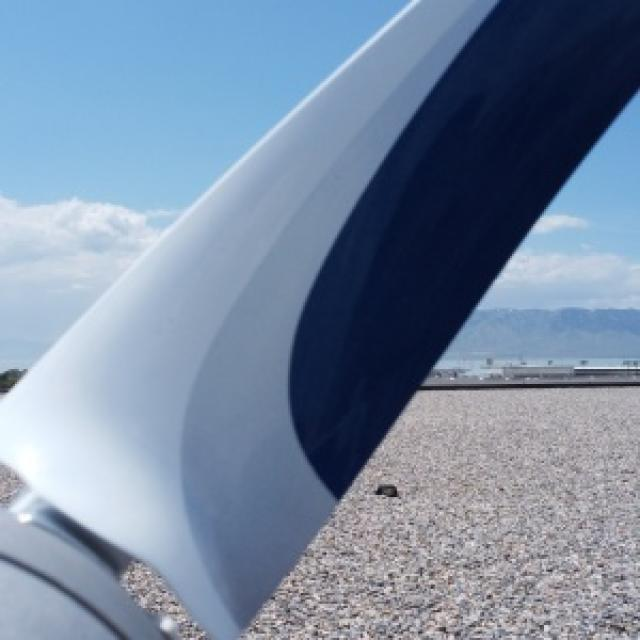healthy: (0, 544, 113, 638)
